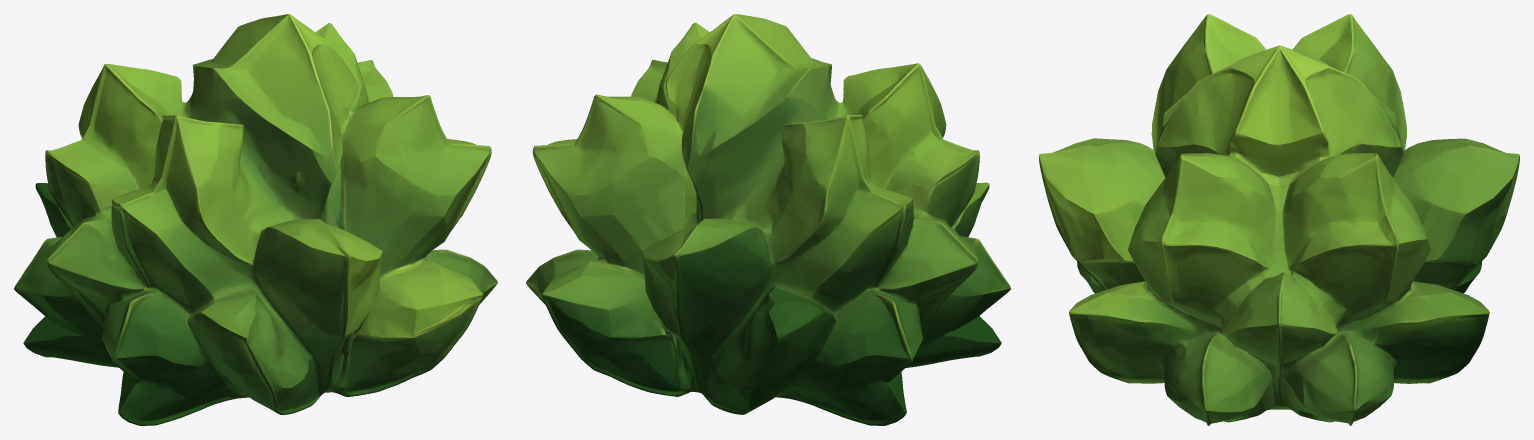
File: base_basic_pbr.fbx
3 views of the same model, side by side, from view 1: azimuth 30°, elevation 25°; view 2: azimuth 150°, elevation 25°; view 3: azimuth 270°, elevation 25° (orthographic).
Parts seen in each view (by area): view 1: geometry_0; view 2: geometry_0; view 3: geometry_0.
Boxes of the visible parts, <box> form: geometry_0: <box>14,14,497,425</box>; geometry_0: <box>526,14,1010,425</box>; geometry_0: <box>1039,14,1519,425</box>.
Bounding box in the file's own units: 190 × 140 × 183.
Materials: 1 (1 with a texture image).
